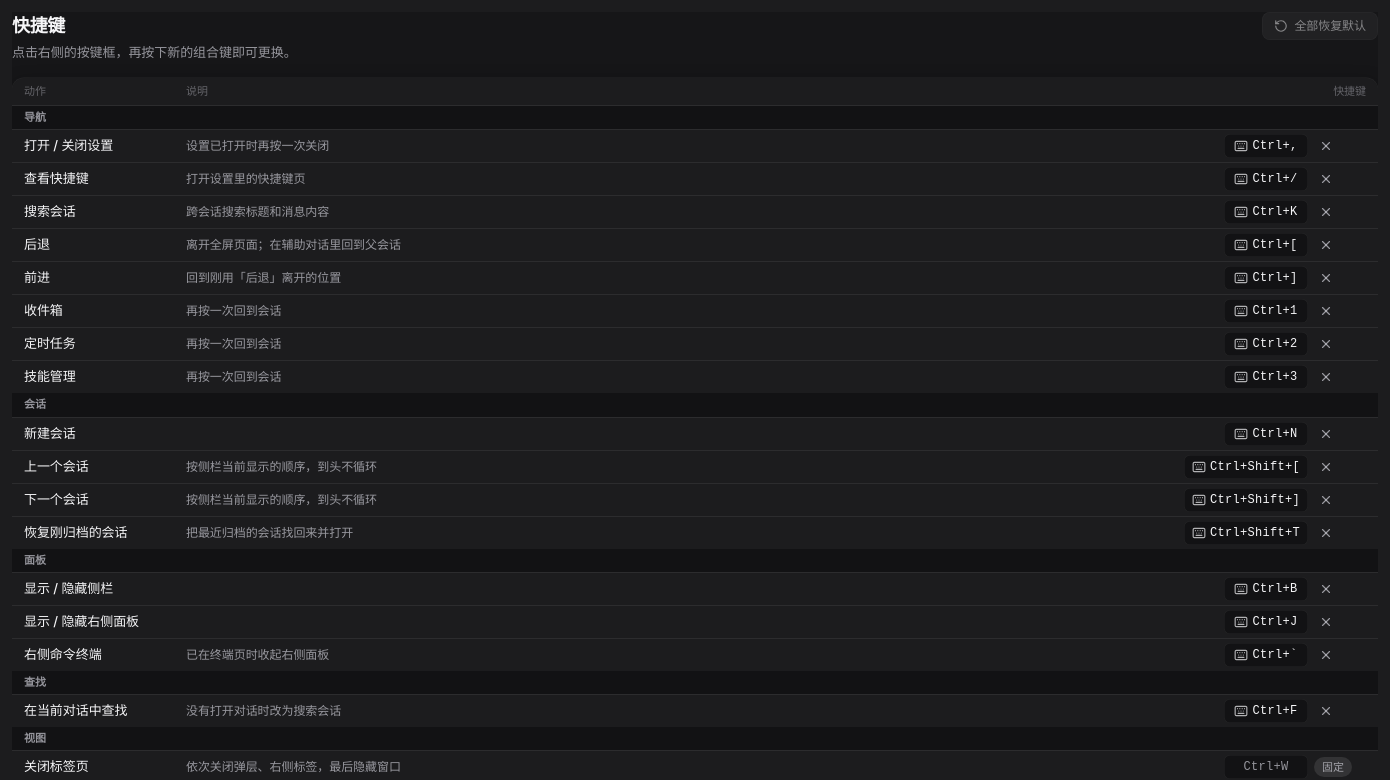
Test: ShortcutsSection › binds a free combo, then reset-one restores the default
Step 1. Click the button "Ctrl+N" → (1266, 434), box [1224,422,1308,446]
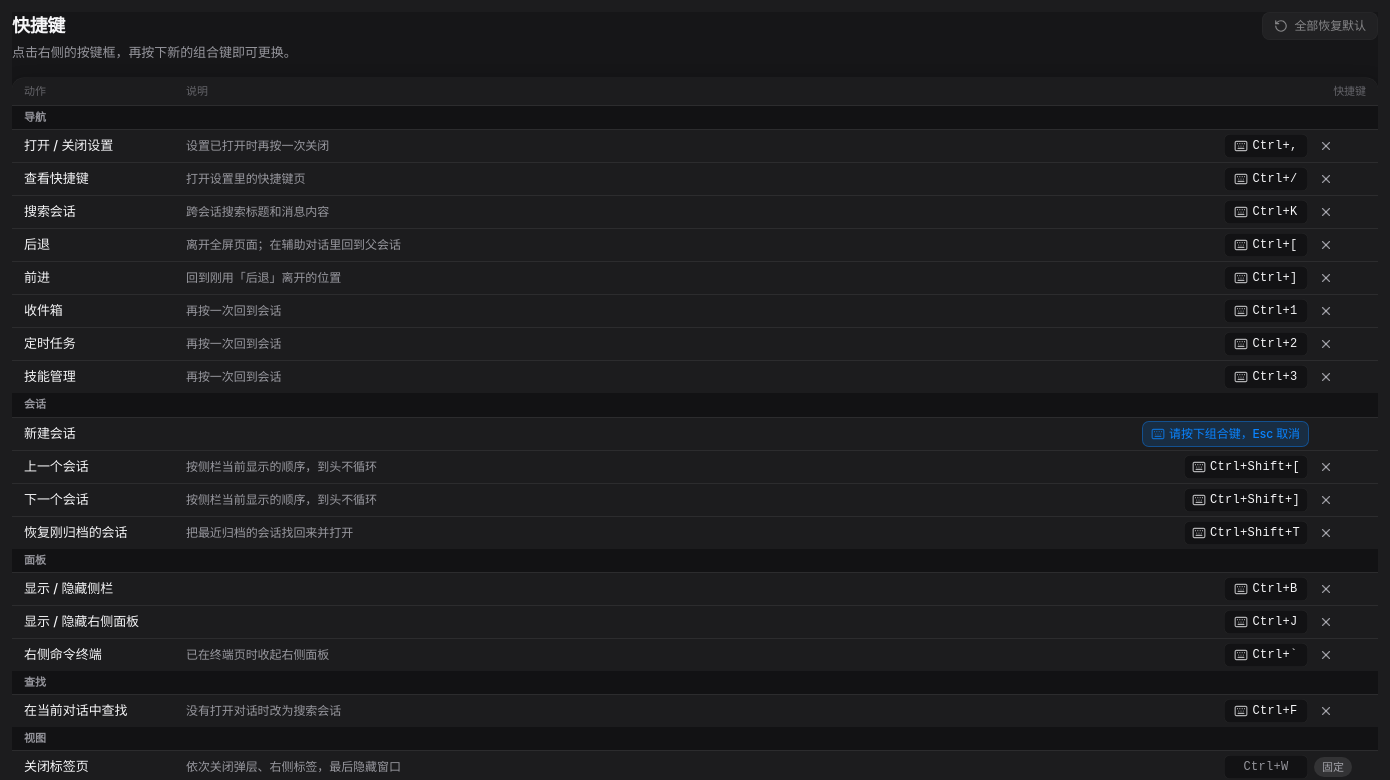
Step 2. Press KeyY
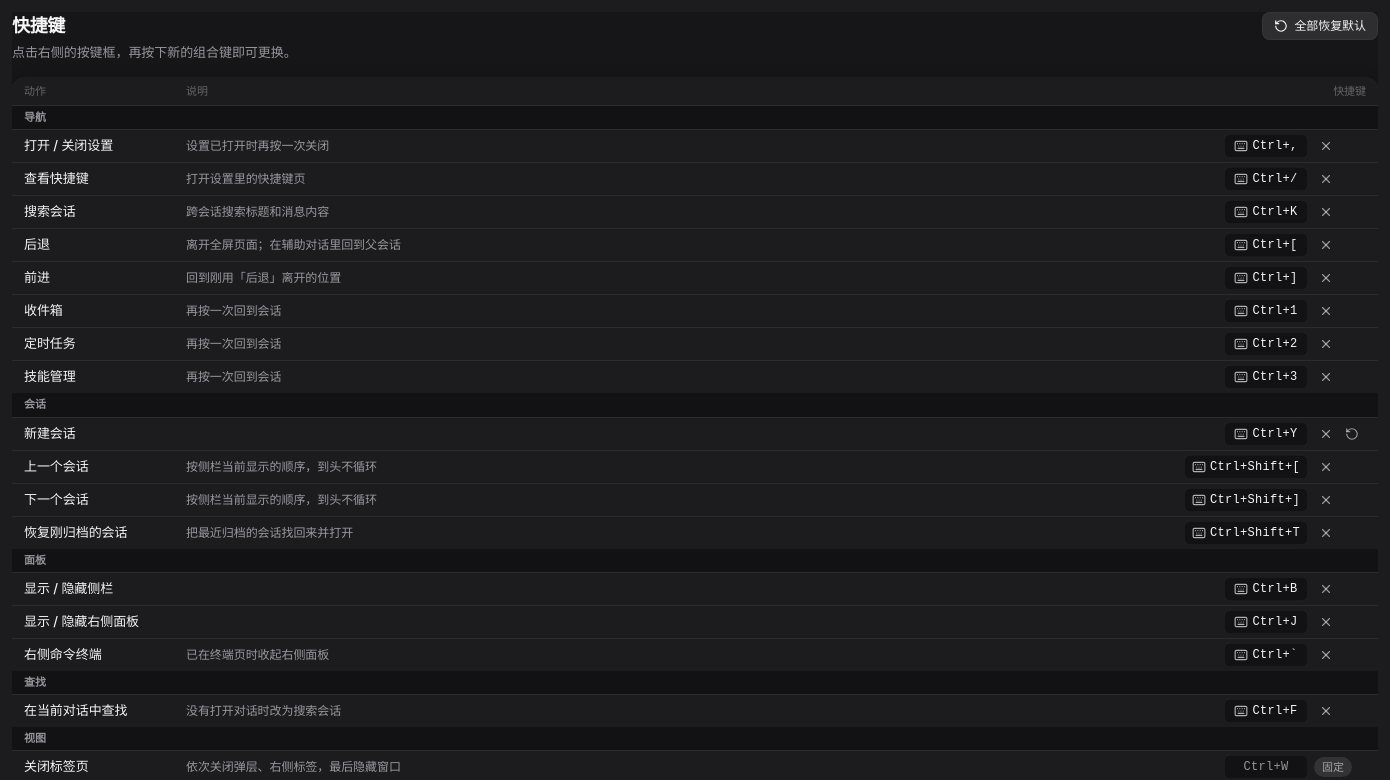
Step 3. Click the button named "恢复「新建会话」的默认快捷键" → (1352, 434), box [1340,422,1364,446]
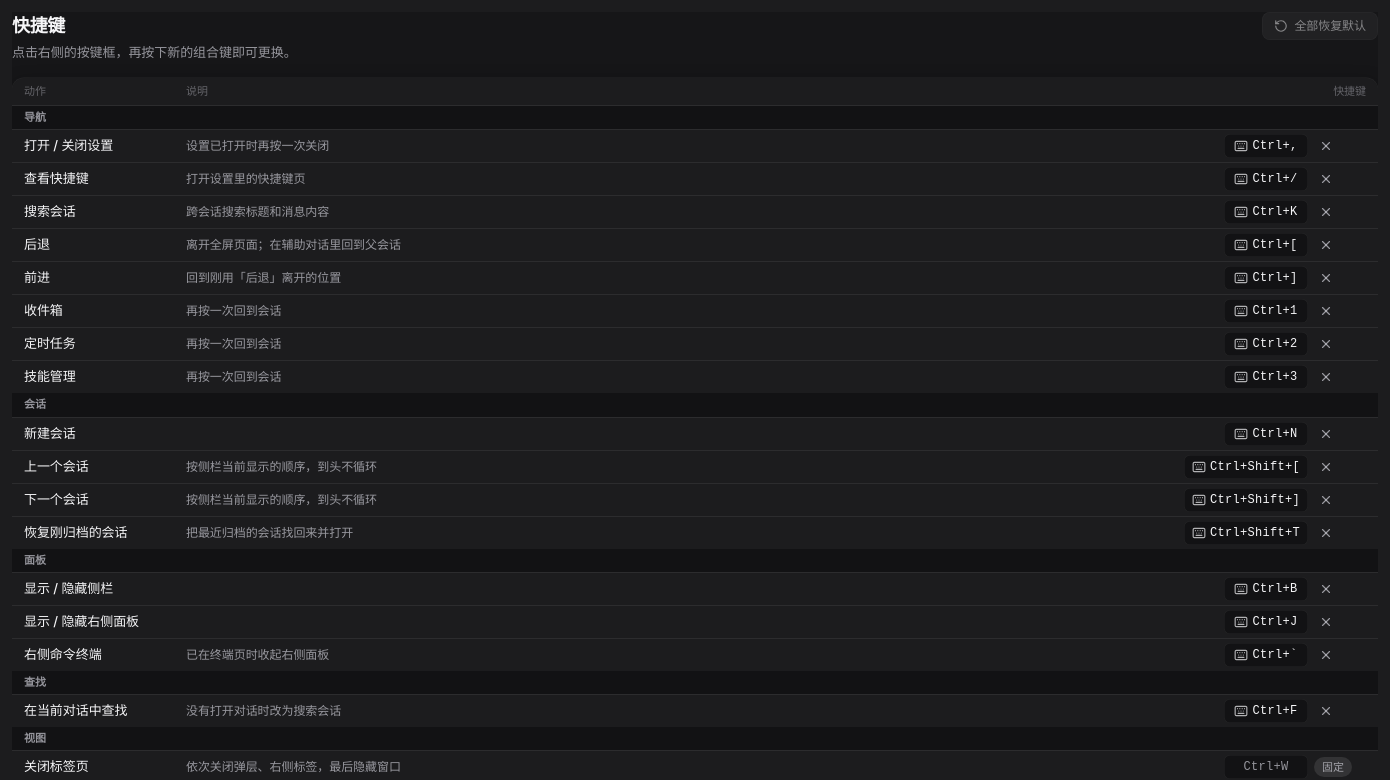
Now the button "恢复「新建会话」的默认快捷键" is gone
